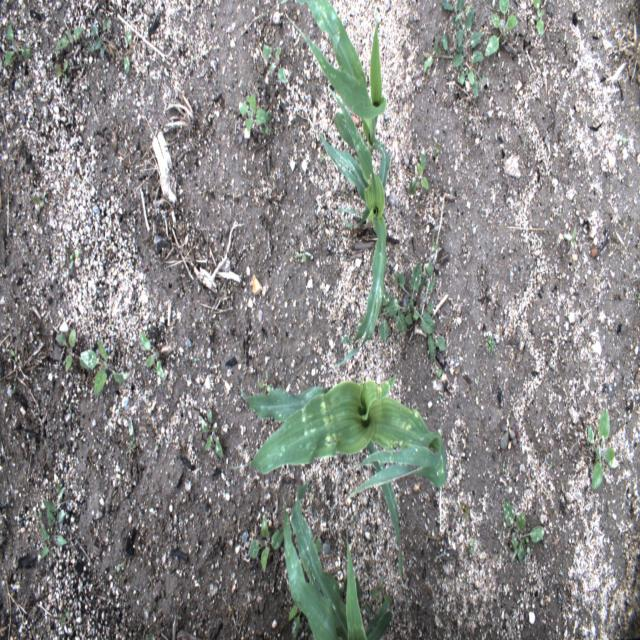crop: (243, 382, 450, 567), (290, 3, 394, 364), (276, 490, 391, 637)
weed: (373, 262, 448, 384), (418, 6, 480, 108), (54, 324, 132, 397), (52, 17, 110, 72), (586, 400, 619, 494), (500, 503, 550, 564), (242, 513, 288, 577), (33, 482, 72, 556), (486, 4, 523, 58), (236, 89, 274, 137), (6, 16, 35, 74), (136, 330, 166, 384), (259, 36, 289, 90), (197, 407, 226, 461), (408, 148, 432, 193), (498, 405, 518, 458), (528, 4, 558, 36)
